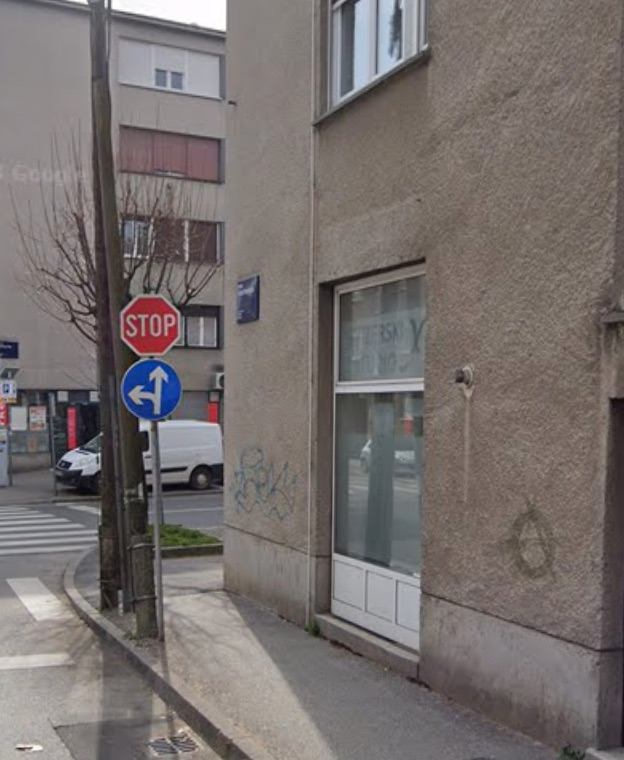Obavezno zaustavljanje: (120, 295, 181, 356)
